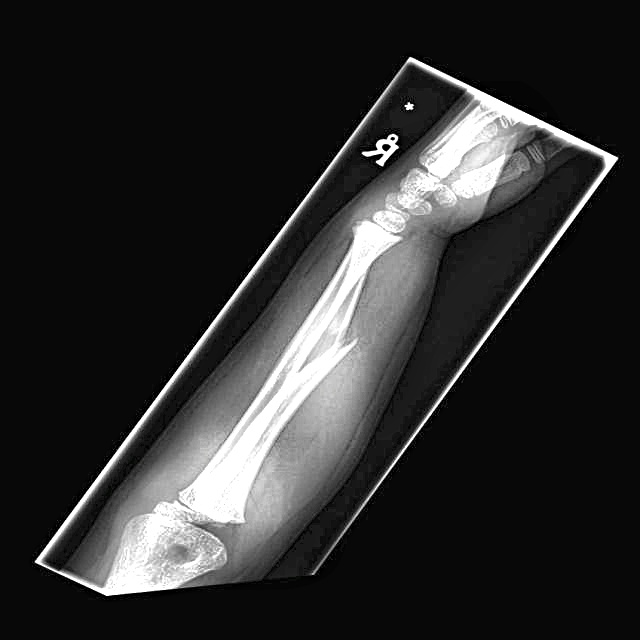Oblique: (272, 314, 372, 392)
